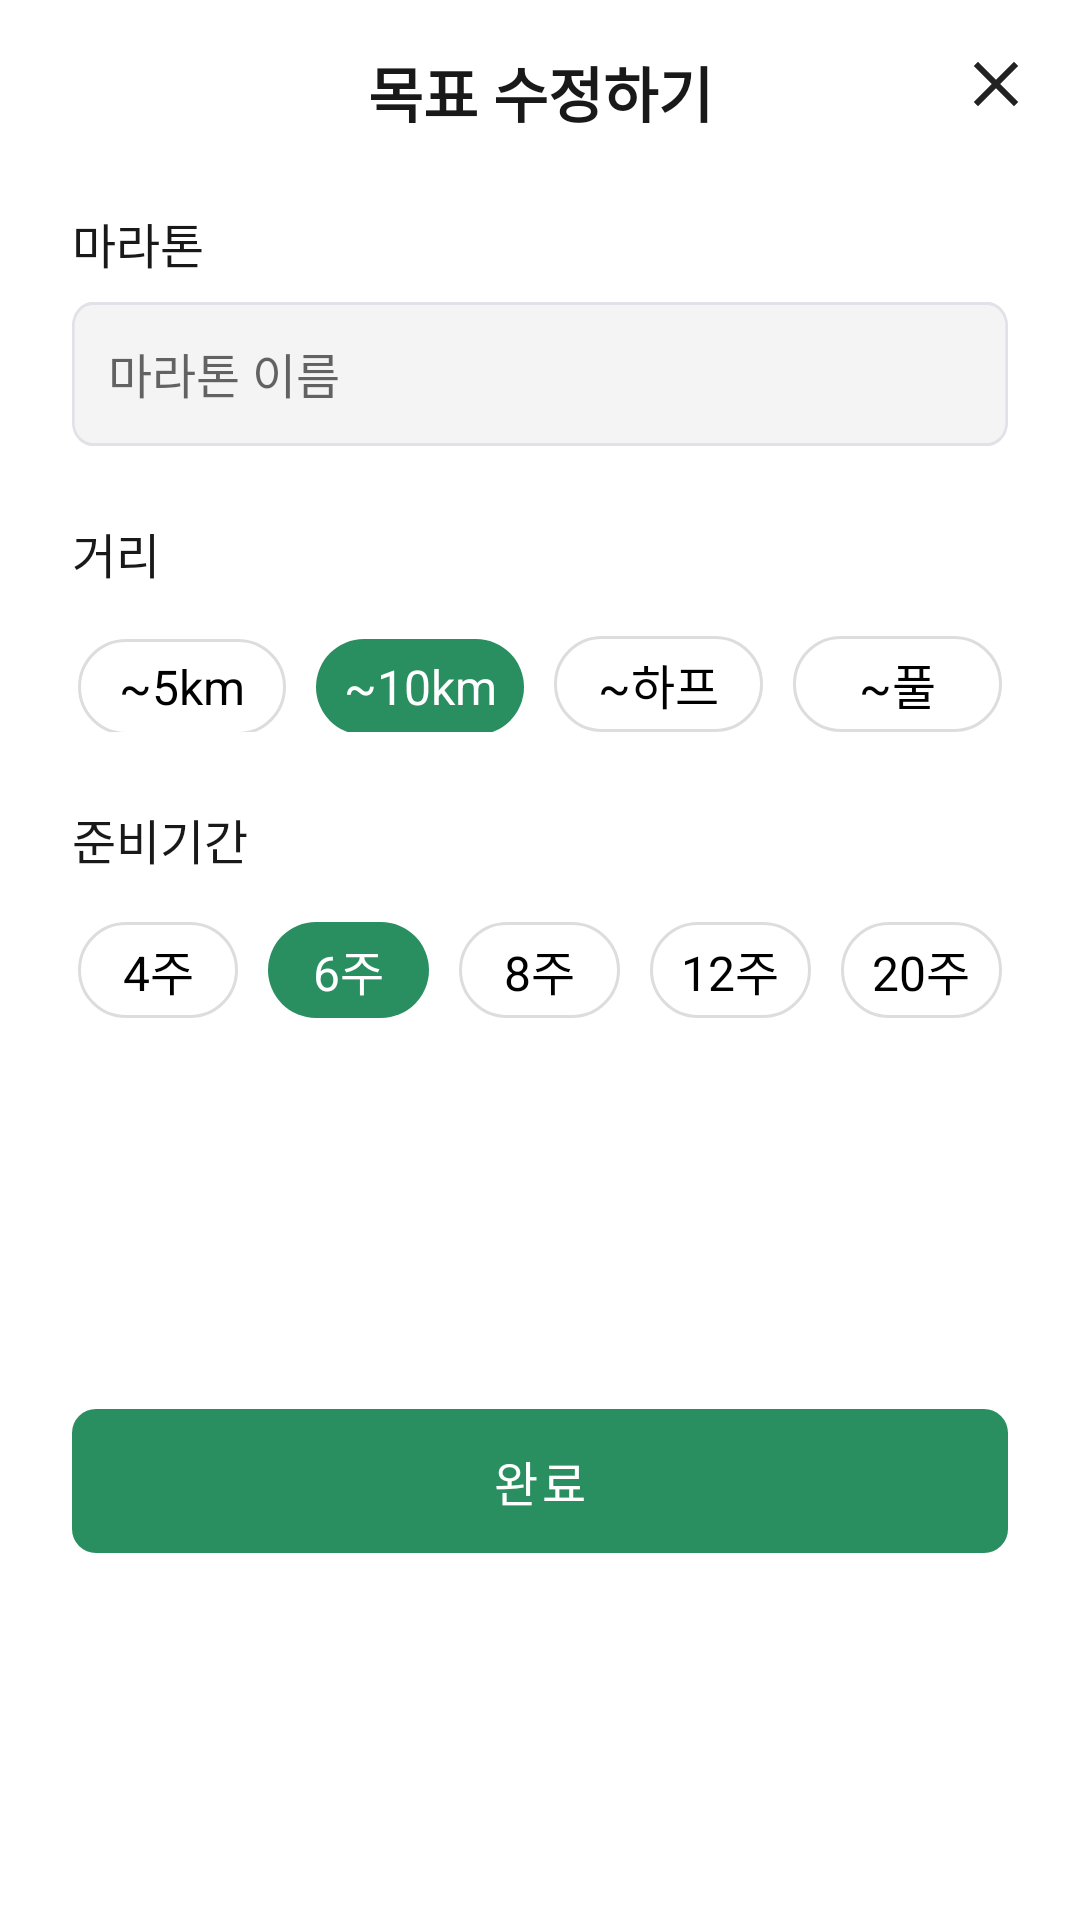

Icon bounding boxes for this 1080x1920 phone screenshot, format bbox=[x1, y1, x2, y2]:
all close: bbox=[974, 62, 1018, 106]
